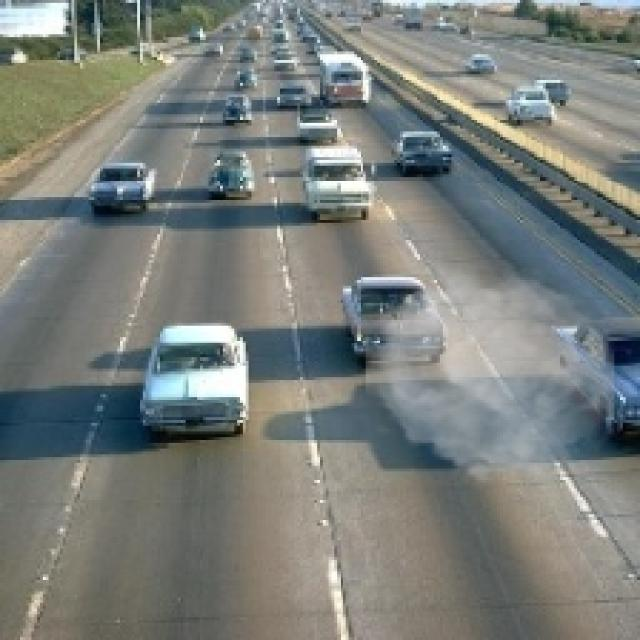smoke: (366, 260, 614, 491)
